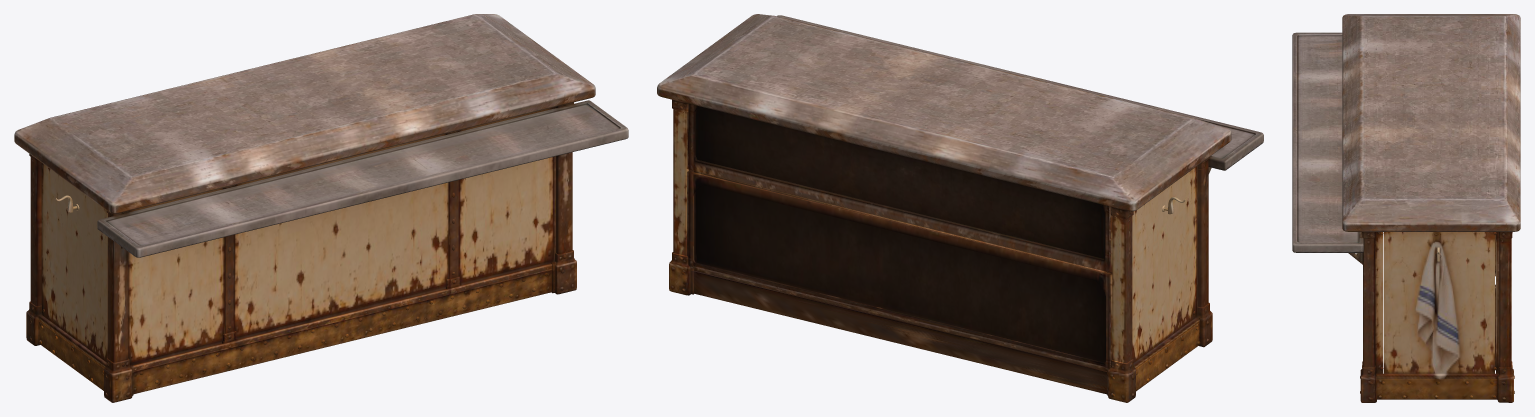
File: canteen-counter.glb
The picture shows the model from 3 angles, left to right: view 1: azimuth 30°, elevation 25°; view 2: azimuth 150°, elevation 25°; view 3: azimuth 270°, elevation 25°; orthographic projection. The views are drawn at different scales.
Parts seen in each view (by area): view 1: SM_BT_CanteenCounter; view 2: SM_BT_CanteenCounter; view 3: SM_BT_CanteenCounter.
Part boxes in pixels (box(x1,y1,x2,y2)): SM_BT_CanteenCounter: box(14, 14, 628, 402); SM_BT_CanteenCounter: box(657, 14, 1263, 402); SM_BT_CanteenCounter: box(1292, 14, 1520, 402).
Size of the model in its own units: 2.15 by 0.92 by 0.9757.
1 material, 1 textured.
